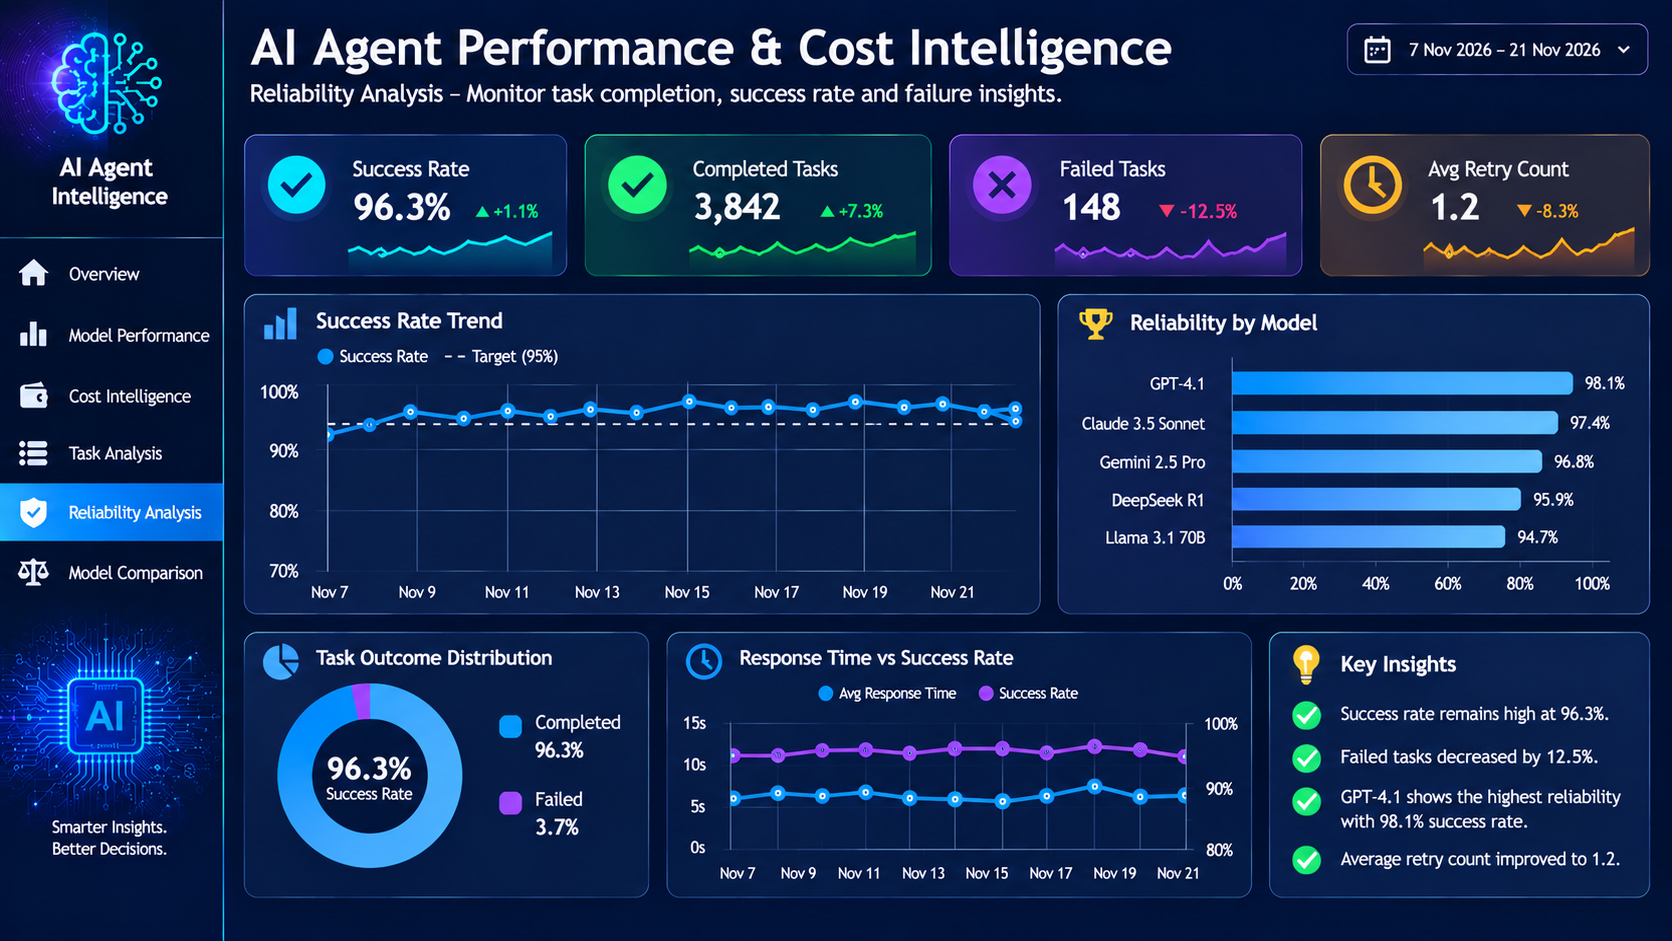

The dashboard page shown, as its layout file describes it:
{"tool":"powerbi","page":{"name":"Reliability Analysis","canvas":[1920,1080],"ordinal":4},"visuals":[{"type":"image","box":[10.3,0,1910.1,1080.6],"z":0}]}

Visuals, with their boxes on the page's 1920x1080 design canvas (x1, y1, x2, y2). These are canvas units, not pixel positions in the 1672x941 screenshot, which may show the page scaled, cropped or inside an application window:
image: BBox(10, 0, 1920, 1081)
